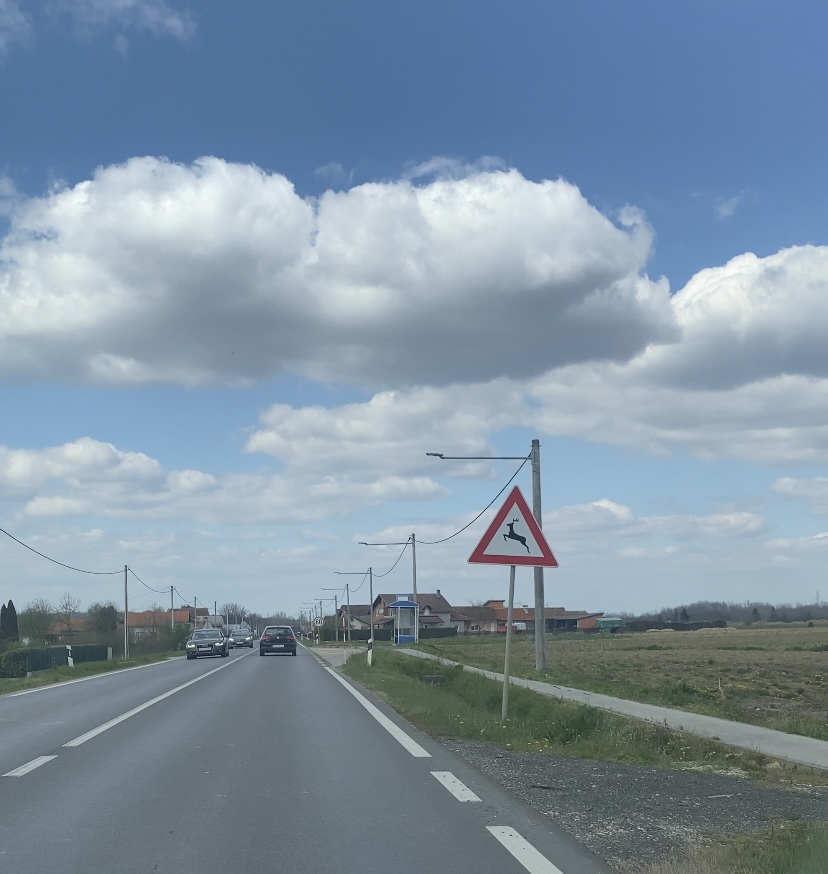Divljač na cesti: (468, 485, 559, 568)
